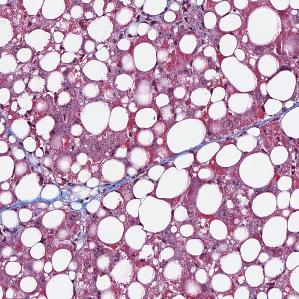fibrosis: (61, 181, 140, 205)
